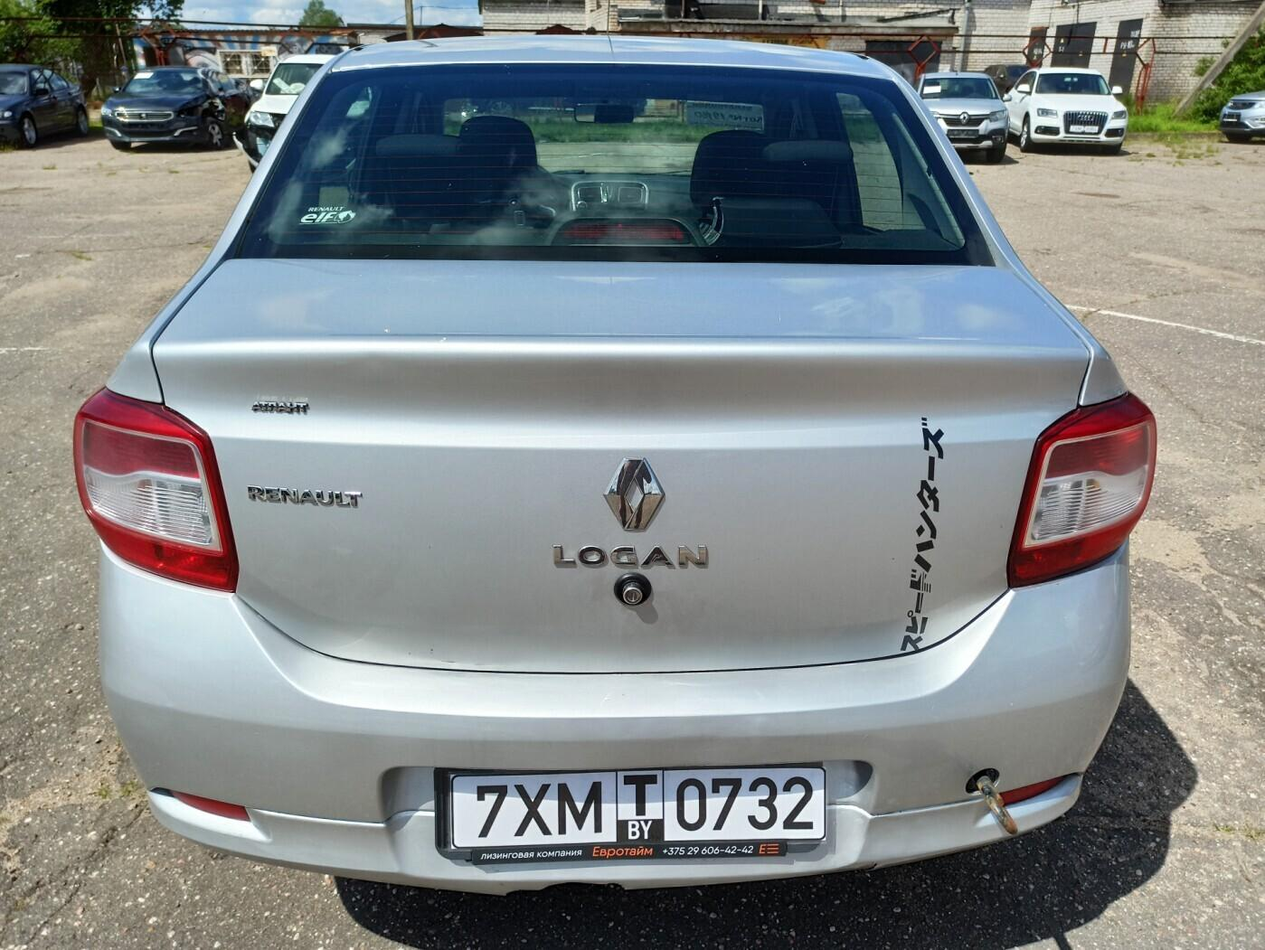Logan_2018: (71, 31, 1156, 906)
